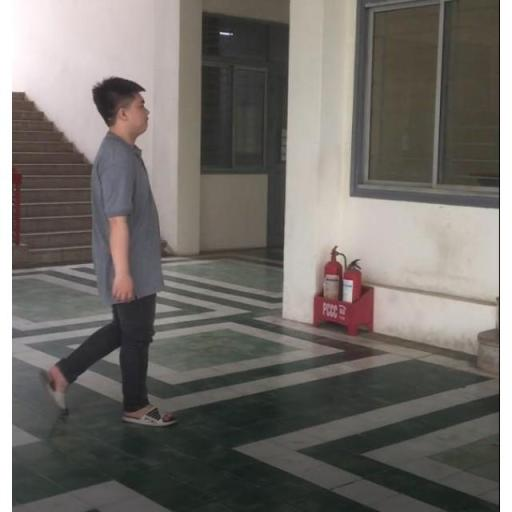Running: (35, 72, 190, 434)
